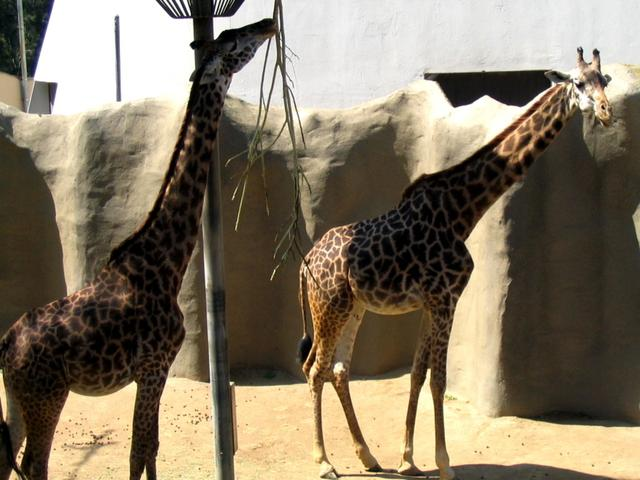giraffe: (298, 26, 617, 470), (7, 1, 279, 480)
